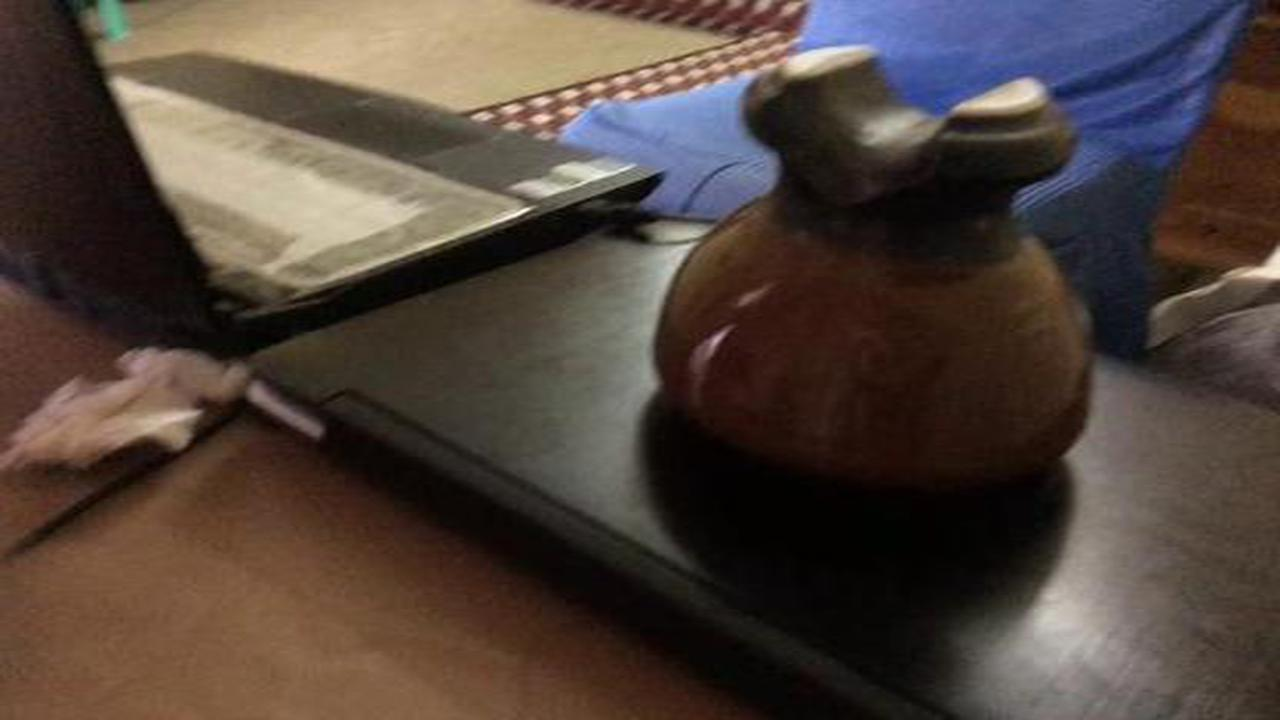insulator_pin: (641, 29, 1124, 494)
